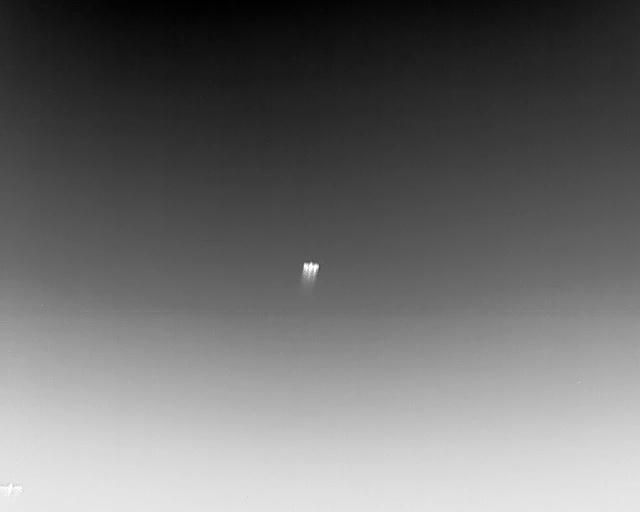fpv-drone: (301, 262, 319, 292)
